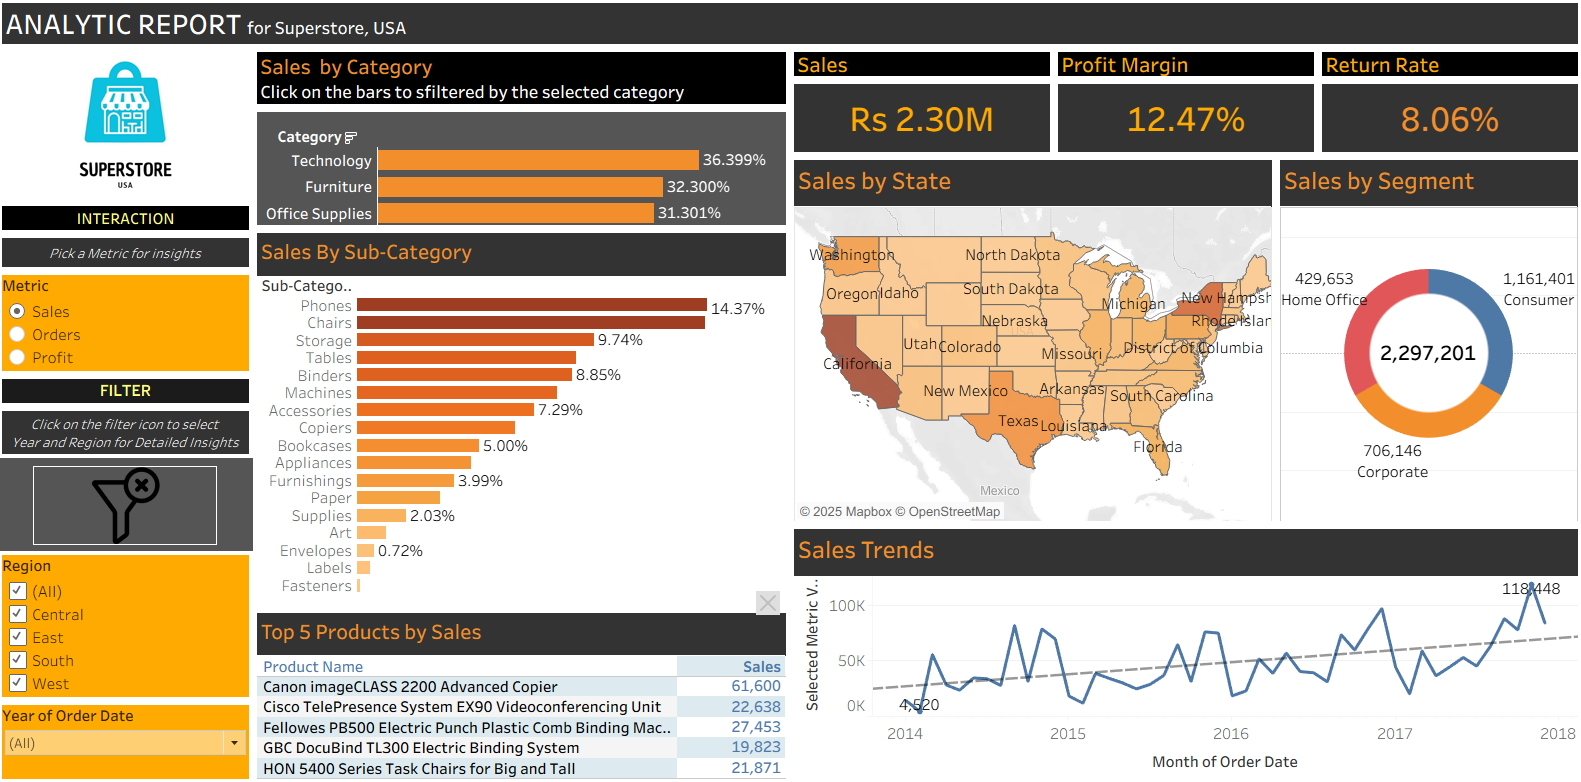

The dashboard page shown, as its layout file describes it:
{"tool":"tableau","page":{"name":"Analytic Report","canvas":[1000,1000],"units":"permille","ordinal":0},"visuals":[{"type":"text","box":[5,10,990,61.1]},{"type":"image","param":"Image/Picture1.png","box":[5,71.1,159.4,192.6]},{"type":"text","box":[164.4,71.1,335.6,75]},{"type":"text","box":[500,71.1,165,40.1]},{"type":"text","box":[665,71.1,165,40.1]},{"type":"text","box":[830,71.1,165,40.1]},{"type":"worksheet","title":"Assign 7.0 KPI (3)","mark":"Automatic","box":[500,111.2,165,94.7]},{"type":"worksheet","title":"Profit Margin 7.0 KPI (2)","mark":"Automatic","box":[665,111.2,165,94.7]},{"type":"worksheet","title":"Return Rate 7.0 KPI","mark":"Automatic","box":[830,111.2,165,94.7]},{"type":"worksheet","title":"Sales By Category","mark":"Automatic","rows":["Category"],"cols":["Calculation_736338563789922305"],"box":[164.4,146.1,335.6,152]},{"type":"worksheet","title":"Sales by State","mark":"Automatic","box":[500,205.9,303.8,461.9]},{"type":"worksheet","title":"Sales by Segment","mark":"Automatic","rows":["Calculation_736338563784642560","Calculation_736338563784642560"],"box":[803.8,205.9,191.2,461.9]},{"type":"text","box":[5,263.7,159.4,40]},{"type":"worksheet","title":"7.0 Sales By Sub-Category","mark":"Automatic","rows":["Sub-Category"],"cols":["Calculation_736338563789922305"],"box":[164.4,298.1,335.6,461.2]},{"type":"text","box":[5,303.7,159.4,46.2]},{"type":"parameter","param":"[Parameters].[Parameter 3]","box":[5,350,159.4,130]},{"type":"text","box":[5,480,159.4,40]},{"type":"text","box":[5,520,159.4,63.8]},{"type":"dashboard-object","box":[26.9,593.8,115,98.8]},{"type":"worksheet","title":"Sales Trend","mark":"Automatic","rows":["Calculation_736338563789922305"],"cols":["Order Date"],"box":[500,667.9,495,322.1]},{"type":"filter","title":"7.0 Sales By Sub-Category","param":"[federated.1fw9gn50pxerxl1384doc0jqe3er].[none:Region:nk]","box":[5,700,159.4,187.5]},{"type":"dashboard-object","box":[478.8,750.3,15,30]},{"type":"worksheet","title":"Top 5 Product by Sales","mark":"Automatic","rows":["Product Name"],"box":[164.4,772.5,335.6,217.5]},{"type":"filter","title":"Sales Trend","param":"[federated.1fw9gn50pxerxl1384doc0jqe3er].[yr:Order Date:ok]","box":[5,887.5,159.4,102.5]}]}

Visuals, with their boxes on the dashboard's canvas, which has no fixed pixel size, in thousandths of its width and height (x1, y1, x2, y2). These are canvas units, not pixel positions in the 1581x782 screenshot, which may show the page scaled, cropped or inside an application window:
text: crop(5, 10, 995, 71)
image: crop(5, 71, 164, 264)
text: crop(164, 71, 500, 146)
text: crop(500, 71, 665, 111)
text: crop(665, 71, 830, 111)
text: crop(830, 71, 995, 111)
"Assign 7.0 KPI (3)" worksheet: crop(500, 111, 665, 206)
"Profit Margin 7.0 KPI (2)" worksheet: crop(665, 111, 830, 206)
"Return Rate 7.0 KPI" worksheet: crop(830, 111, 995, 206)
"Sales By Category" worksheet: crop(164, 146, 500, 298)
"Sales by State" worksheet: crop(500, 206, 804, 668)
"Sales by Segment" worksheet: crop(804, 206, 995, 668)
text: crop(5, 264, 164, 304)
"7.0 Sales By Sub-Category" worksheet: crop(164, 298, 500, 759)
text: crop(5, 304, 164, 350)
parameter: crop(5, 350, 164, 480)
text: crop(5, 480, 164, 520)
text: crop(5, 520, 164, 584)
dashboard-object: crop(27, 594, 142, 693)
"Sales Trend" worksheet: crop(500, 668, 995, 990)
"7.0 Sales By Sub-Category" filter: crop(5, 700, 164, 888)
dashboard-object: crop(479, 750, 494, 780)
"Top 5 Product by Sales" worksheet: crop(164, 772, 500, 990)
"Sales Trend" filter: crop(5, 888, 164, 990)
